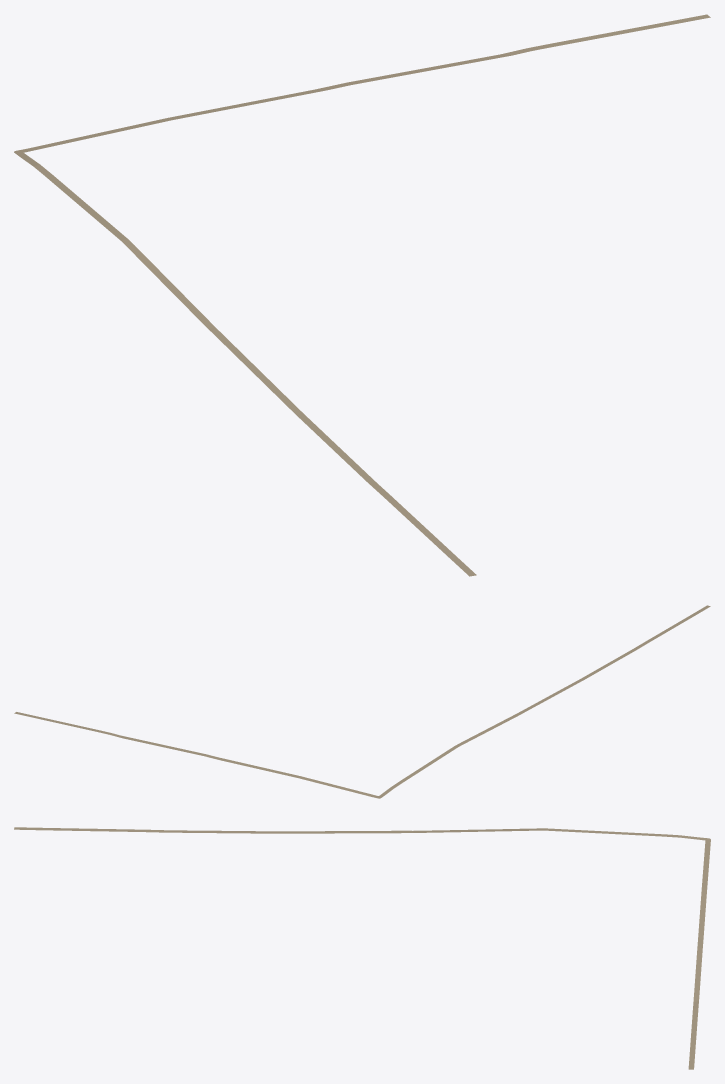
The model's file is farm_3_15_track.glb.
3 renders of one model, top to bottom at view 1: azimuth 30°, elevation 25°; view 2: azimuth 150°, elevation 25°; view 3: azimuth 270°, elevation 25°, orthographic. The views are drawn at different scales.
Visible parts, largest first — view 1: geometry_0; view 2: geometry_0; view 3: geometry_0.
Part boxes in pixels (bbox=[...]): geometry_0: bbox=[14, 14, 710, 576]; geometry_0: bbox=[14, 605, 710, 798]; geometry_0: bbox=[14, 827, 710, 1069].
Size of the model in its own units: 343 by 11.53 by 417.
